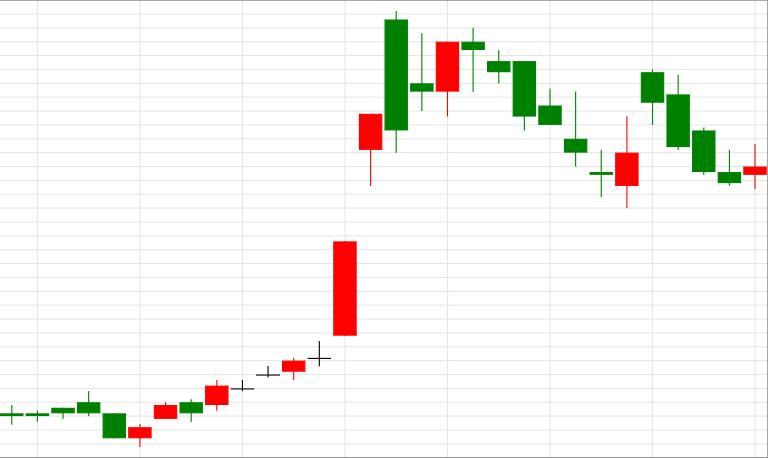hanging_man_fall: (128, 115, 382, 446)
